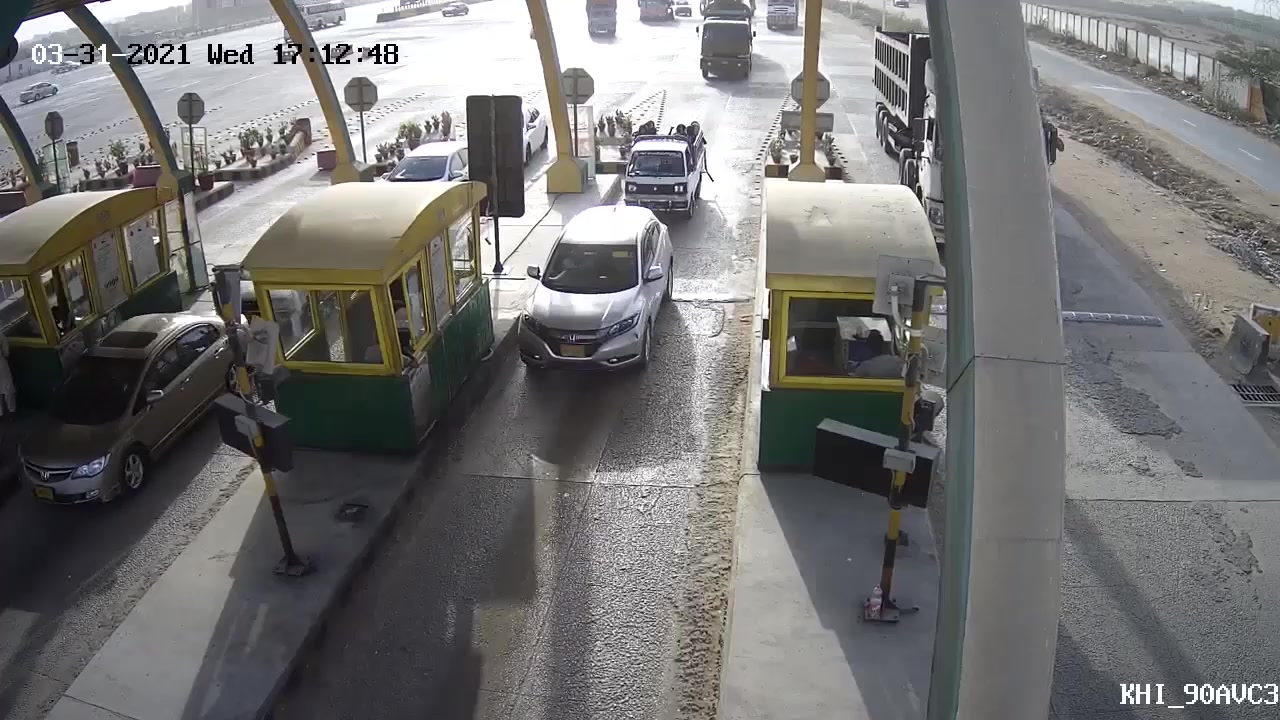F1: (513, 203, 676, 385), (620, 117, 712, 217)
